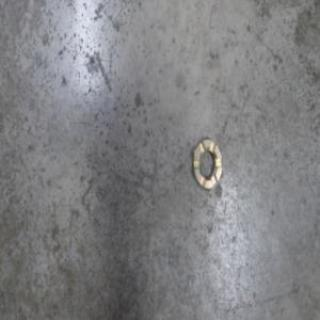Nuttrack_idkeyframe: (191, 134, 222, 192)
